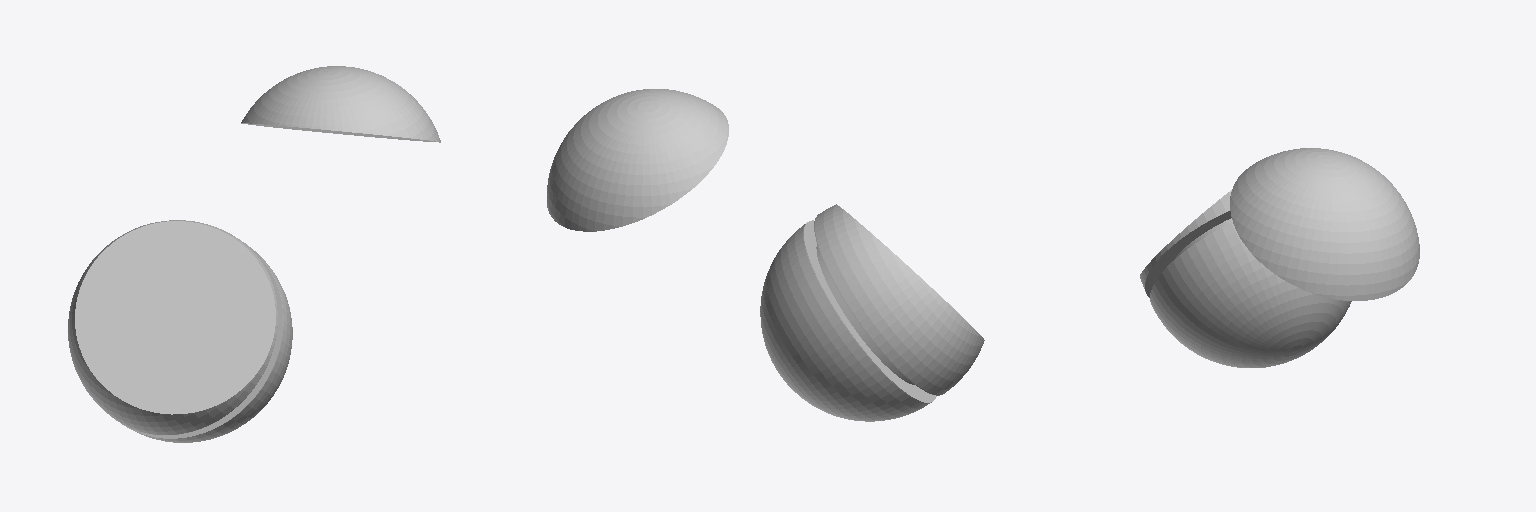
The model's file is Drone166_000012.obj.
3 views of the same model, side by side, from view 1: azimuth 30°, elevation 25°; view 2: azimuth 150°, elevation 25°; view 3: azimuth 270°, elevation 25° (orthographic).
Parts seen in each view (by area): view 1: Sphere.006, Sphere.000_Sphere.007; view 2: Sphere.006, Sphere.000_Sphere.007; view 3: Sphere.000_Sphere.007, Sphere.006.
Part boxes in pixels (x1,y1,x2,y2): Sphere.006: (68, 220, 292, 442); Sphere.000_Sphere.007: (241, 66, 440, 142); Sphere.006: (760, 204, 984, 421); Sphere.000_Sphere.007: (547, 89, 728, 231); Sphere.000_Sphere.007: (1230, 148, 1419, 300); Sphere.006: (1140, 190, 1351, 367).
Size of the model in its own units: 4.02 by 2.92 by 2.56.